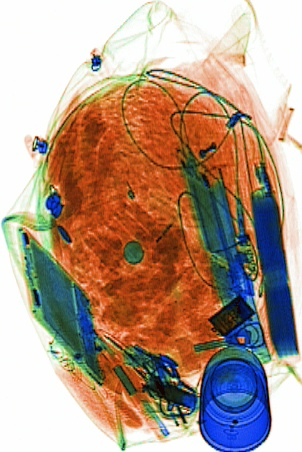powerbank: (247, 186, 299, 359)
